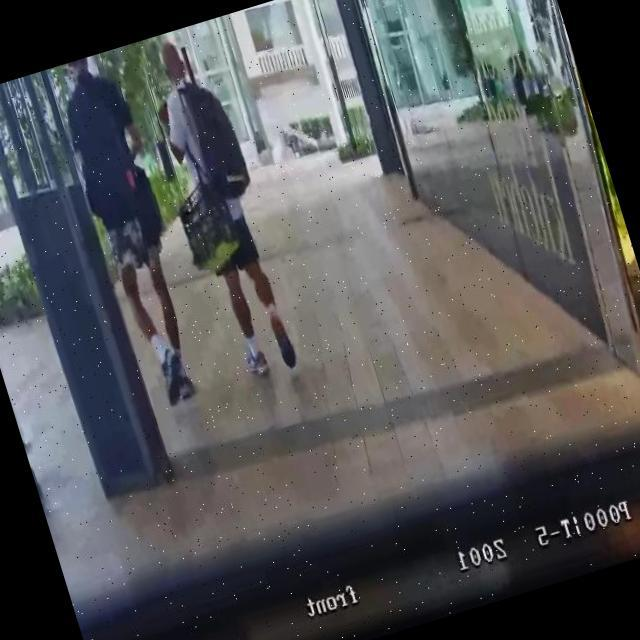person: (45, 49, 218, 412), (138, 29, 308, 386)
